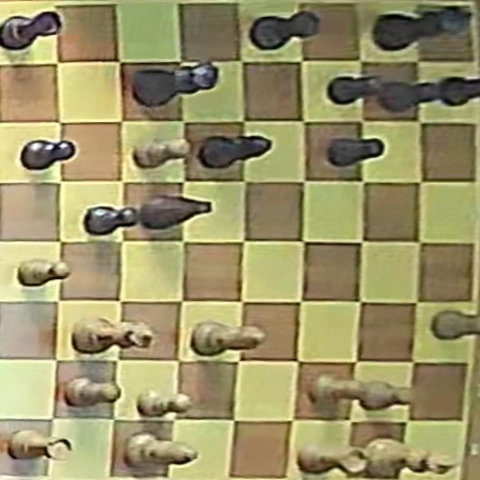black-bishop: (199, 135, 271, 169)
black-king: (375, 6, 470, 51)
black-knight: (139, 195, 211, 229)
black-pawn: (328, 75, 385, 106), (327, 137, 384, 167), (382, 81, 438, 111), (22, 139, 75, 170), (84, 205, 138, 235), (437, 76, 478, 106)
black-queen: (132, 63, 217, 107)
black-rook: (252, 11, 319, 50), (1, 11, 63, 51)
white-bishop: (125, 432, 197, 468), (192, 322, 265, 355)
white-king: (368, 439, 454, 476)
white-pawn: (134, 138, 191, 168), (355, 381, 411, 409), (65, 378, 119, 407), (137, 390, 191, 417), (18, 259, 70, 287), (432, 310, 478, 340), (309, 374, 352, 406)
white-queen: (74, 317, 152, 352)
white-rook: (299, 443, 370, 475), (7, 430, 72, 461)
